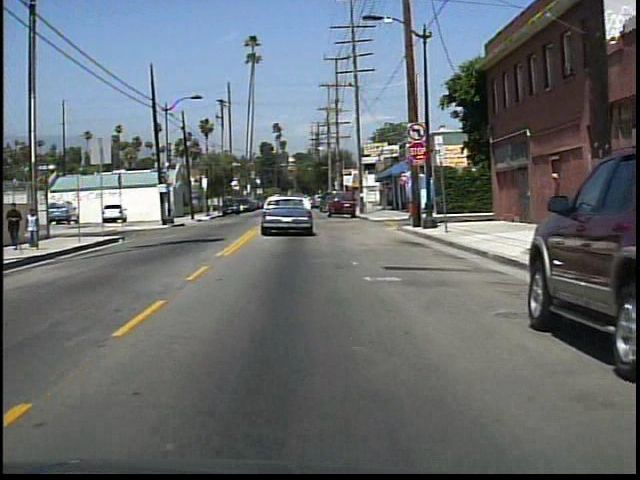person: (9, 200, 28, 251), (27, 206, 47, 251)
